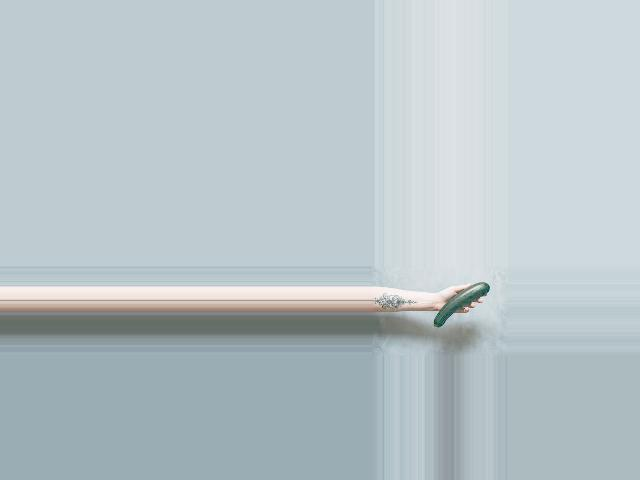cucumber: (434, 282, 490, 327)
